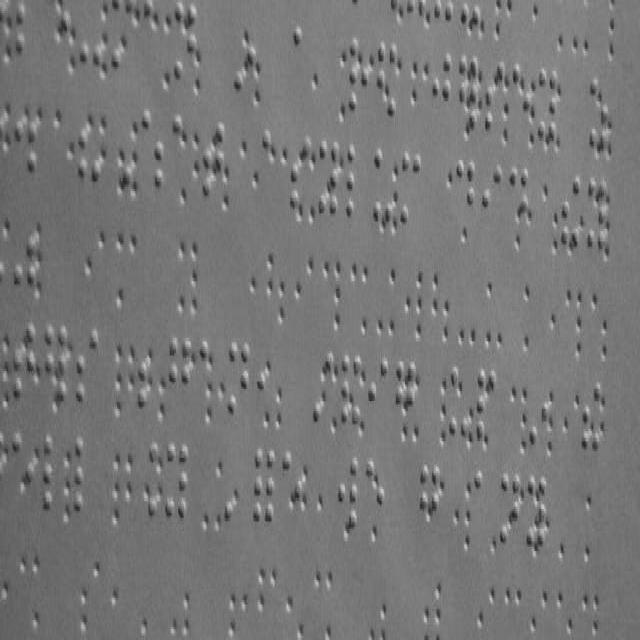braiile: (166, 334, 192, 422), (74, 323, 100, 410), (76, 127, 100, 220), (346, 139, 372, 221), (74, 432, 100, 514), (13, 230, 35, 316), (15, 119, 38, 201), (165, 442, 188, 522), (400, 150, 422, 232), (227, 341, 249, 419), (337, 454, 359, 528), (368, 356, 388, 436), (482, 161, 502, 235), (474, 468, 494, 541), (456, 157, 474, 230)
